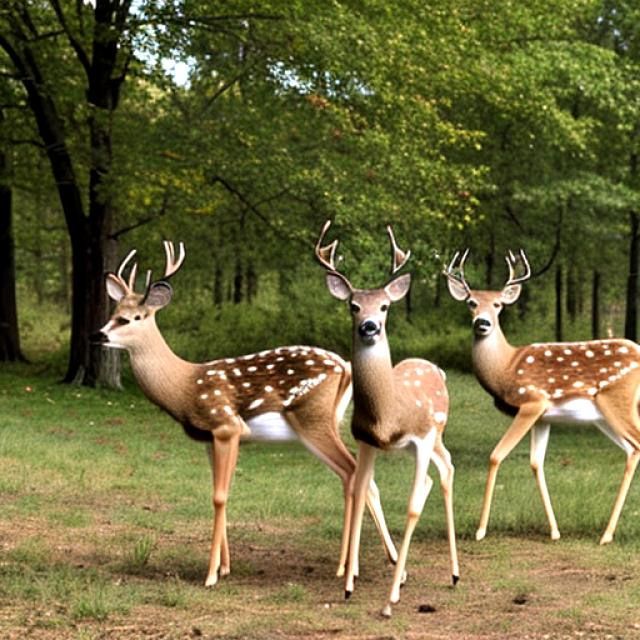deer: (72, 224, 350, 584), (427, 234, 640, 584), (288, 210, 446, 569)
